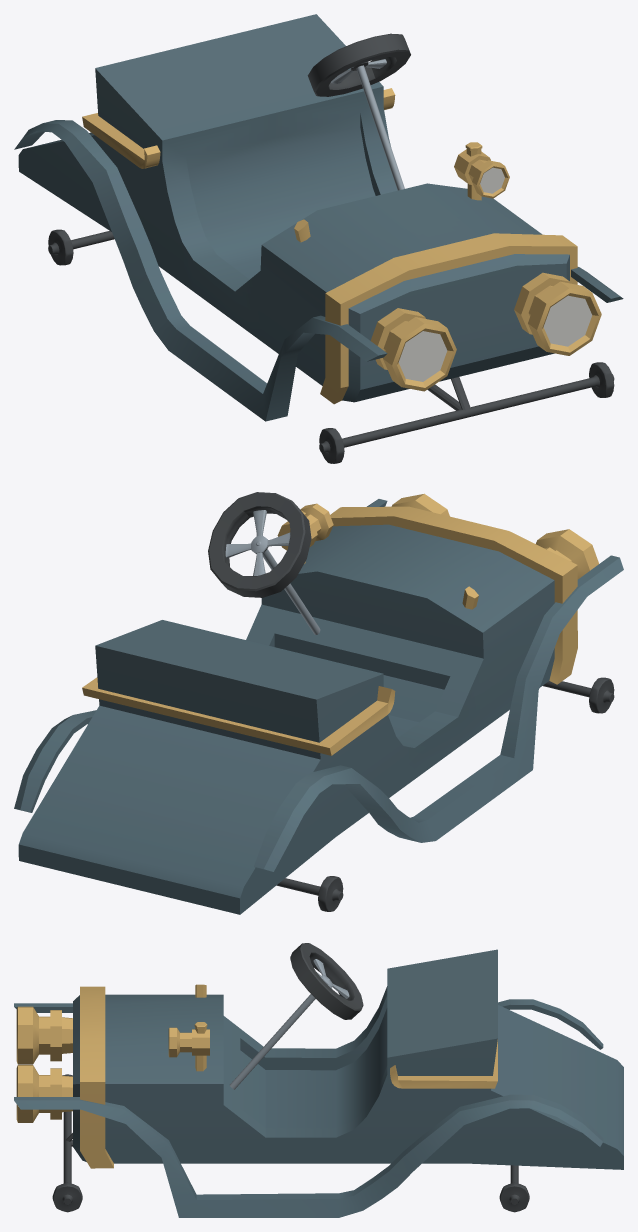
The model's file is CarDestroyed.fbx.
The picture shows the model from 3 angles, top to bottom: view 1: azimuth 30°, elevation 25°; view 2: azimuth 150°, elevation 25°; view 3: azimuth 270°, elevation 25°; orthographic projection. The views are drawn at different scales.
Parts seen in each view (by area): view 1: CarDestroyed; view 2: CarDestroyed; view 3: CarDestroyed.
Boxes of the visible parts, x1,y1,x2,y2 form: CarDestroyed: [14, 14, 623, 463]; CarDestroyed: [14, 492, 623, 914]; CarDestroyed: [14, 943, 623, 1217].
Bounding box in the file's own units: 86.8 × 81.55 × 191.
